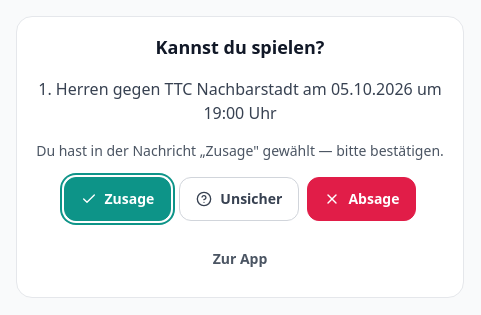
ActionPage › speichert eine Antwort aus dem Link erst nach der Bestätigung
Expected: the text "bitte bestätigen" is shown, x1=253 y1=141 x2=444 y2=160
Click the button "Zusage" at (117, 199), box x1=64 y1=177 x2=171 y2=221
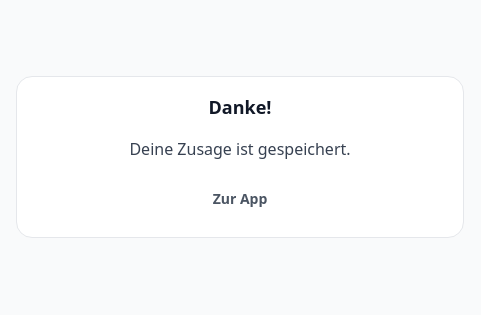
Expected: the heading "Danke!" is shown, x1=208 y1=95 x2=272 y2=119
Expected: the text "Deine Zusage ist gespeichert." is shown, x1=129 y1=138 x2=350 y2=160
